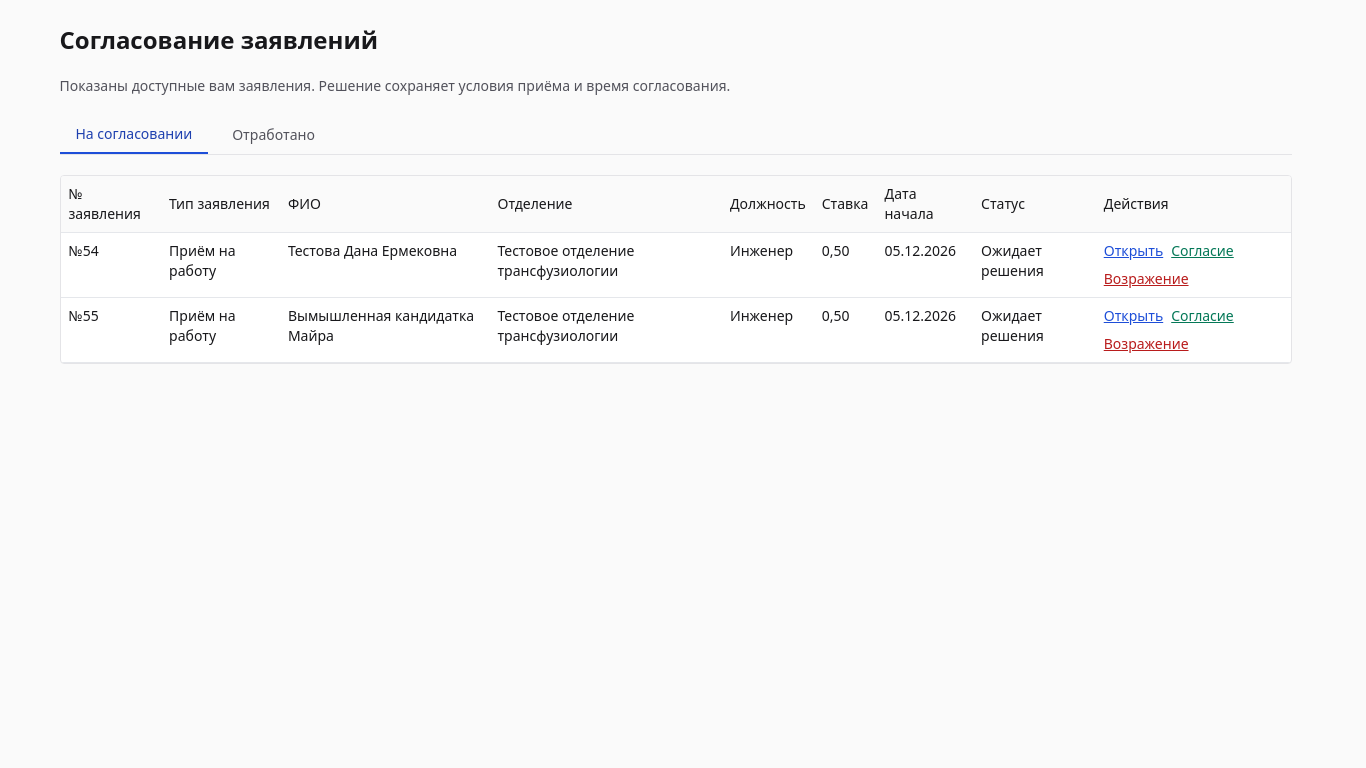
HireApprovalsClient › requires a reason in the objection dialog and changes only the selected application
Expected: the table is shown, [60, 176, 1290, 363]
Click the 2nd button "Возражение" at [1146, 344], box [1104, 334, 1188, 354]
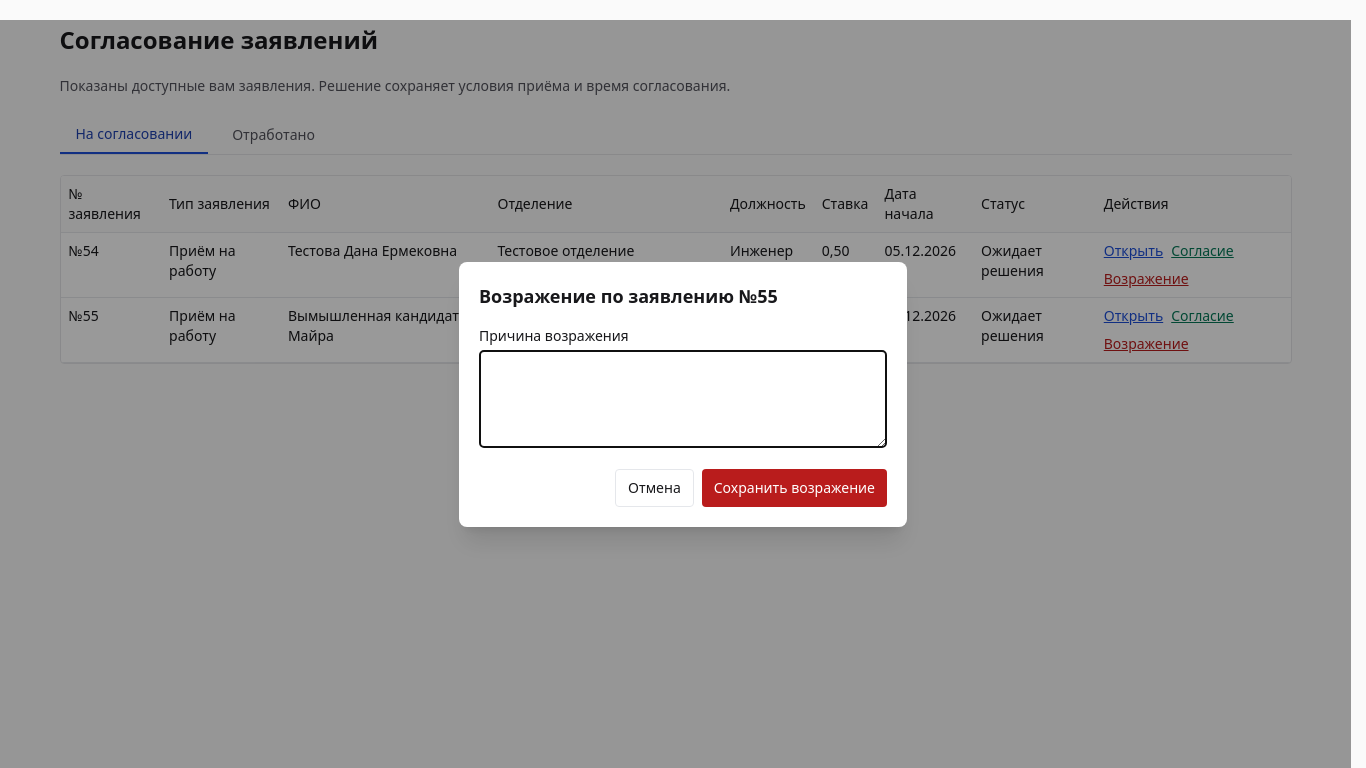
Result: the dialog shows "№55" at [459, 262, 907, 526]
Click the button "Сохранить возражение" at [794, 488], box [702, 468, 887, 506]
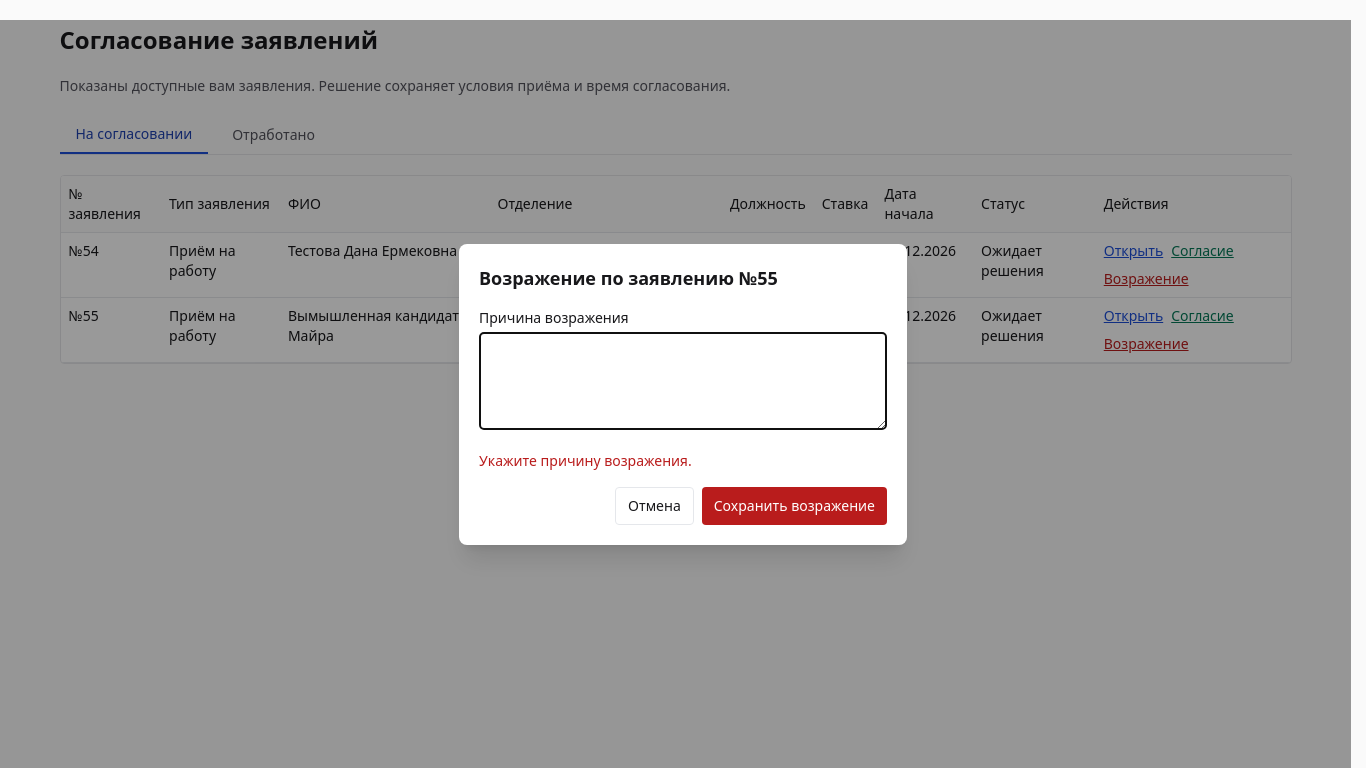
Result: the message shows "Укажите причину возражения" at [479, 450, 692, 470]
Type "  Требуется уточнить дату  " into the text box labelled "Причина возражения" at [683, 380], box [479, 332, 887, 430]
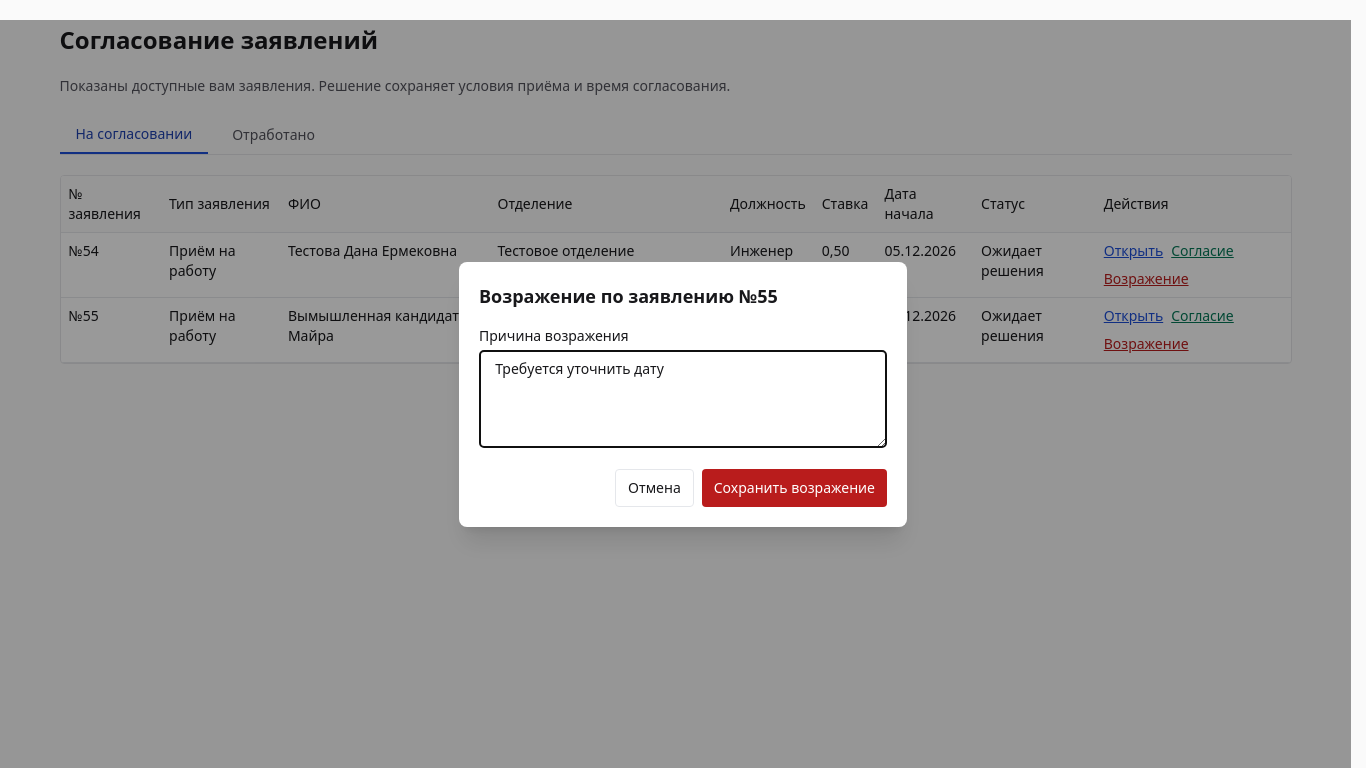
Click the button "Сохранить возражение" at [794, 488], box [702, 468, 887, 506]
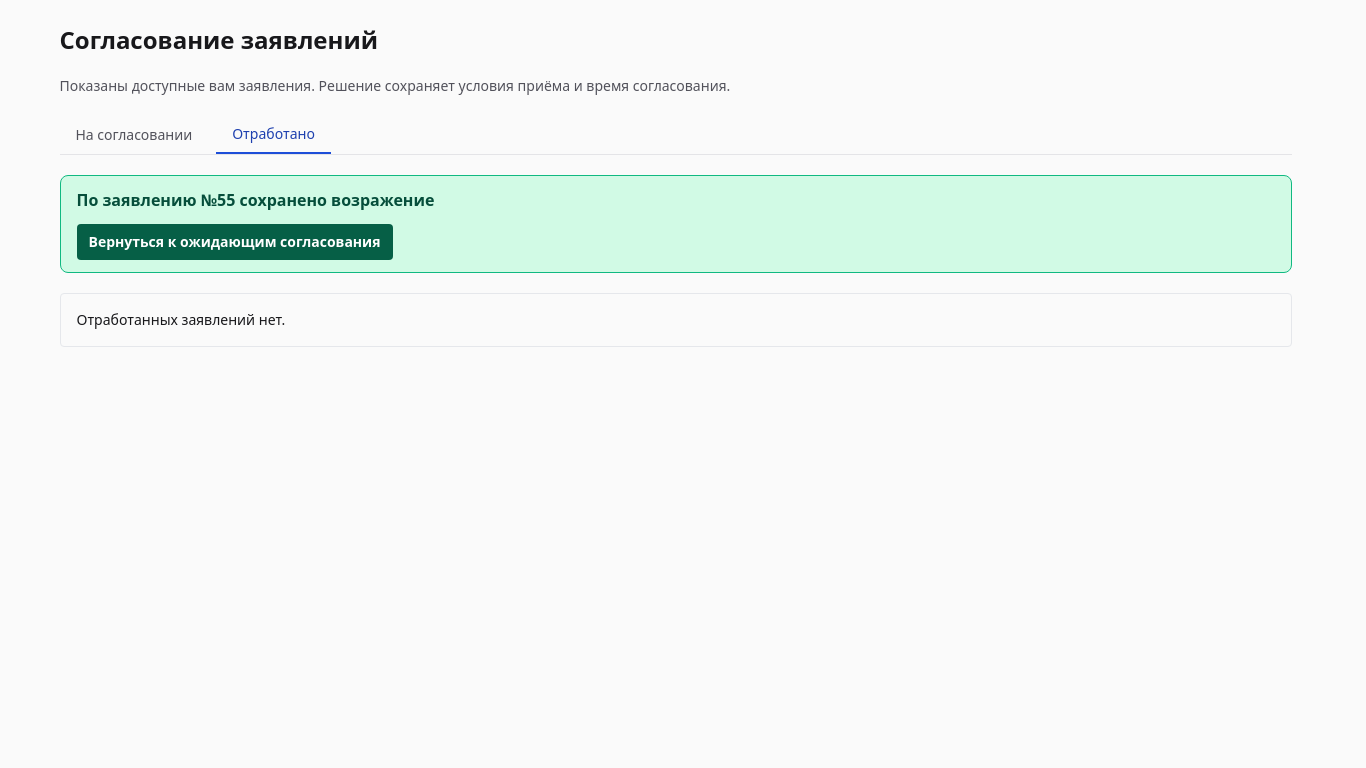
Result: the message shows "№55" at [76, 189, 434, 211]
